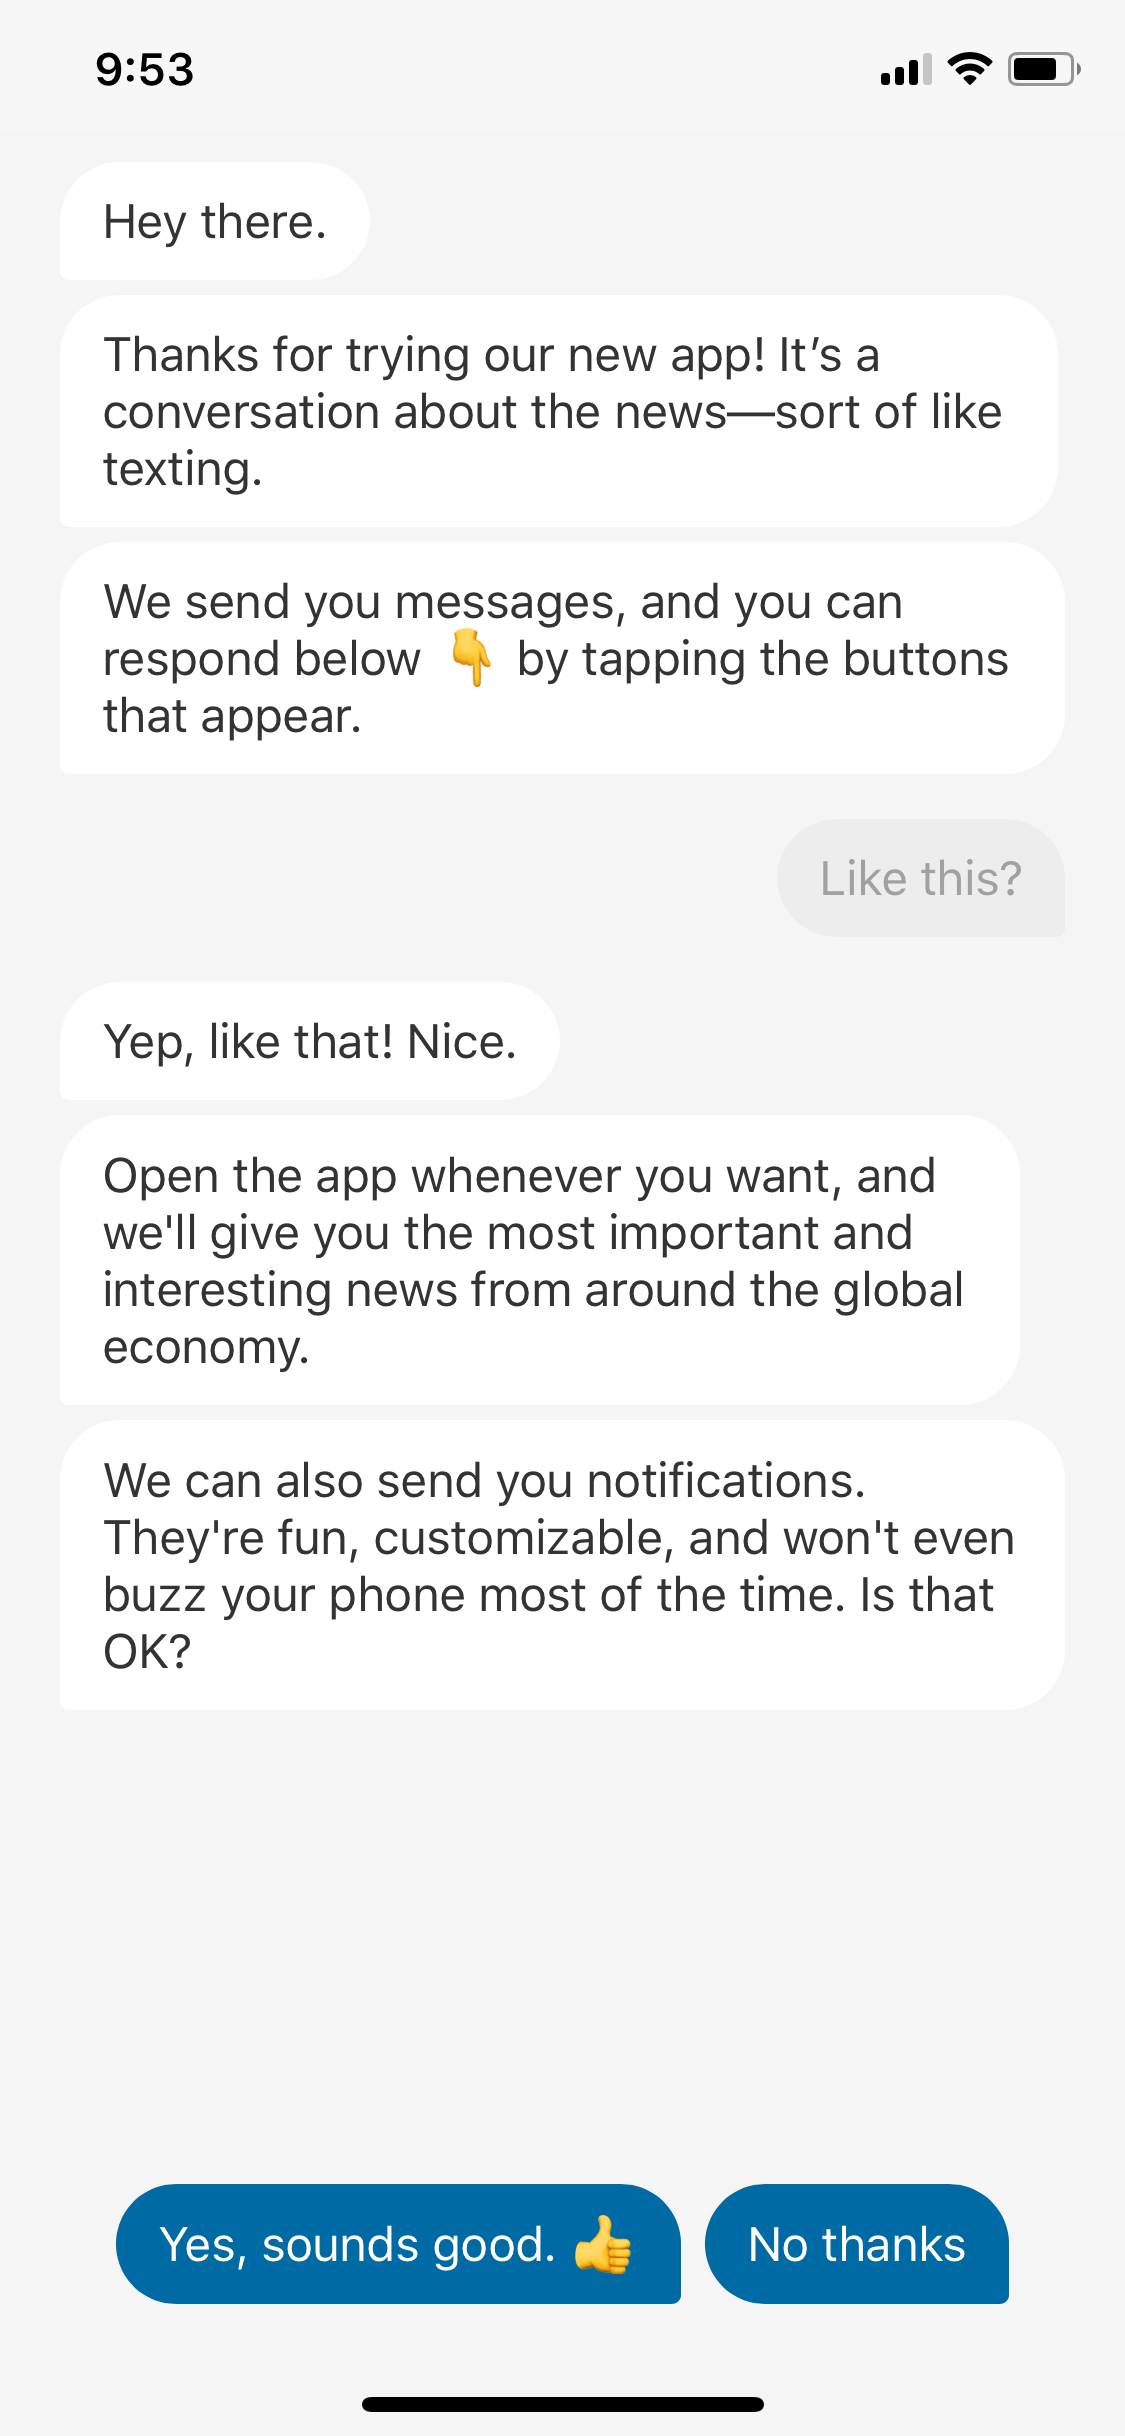Buttons: (106, 2166, 691, 2323), (696, 2167, 1016, 2318)
